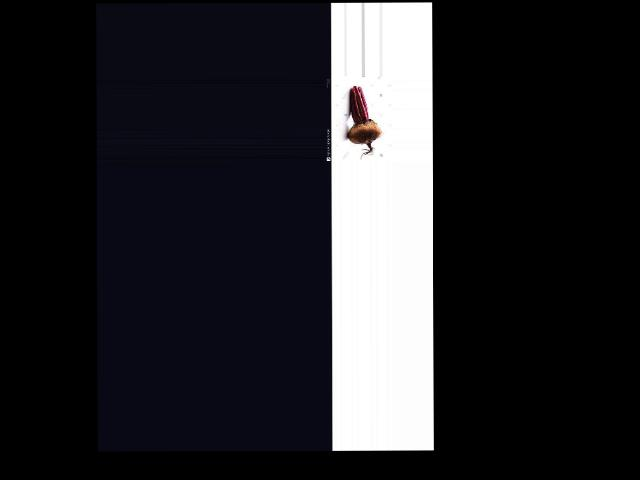beet: (347, 85, 381, 158)
